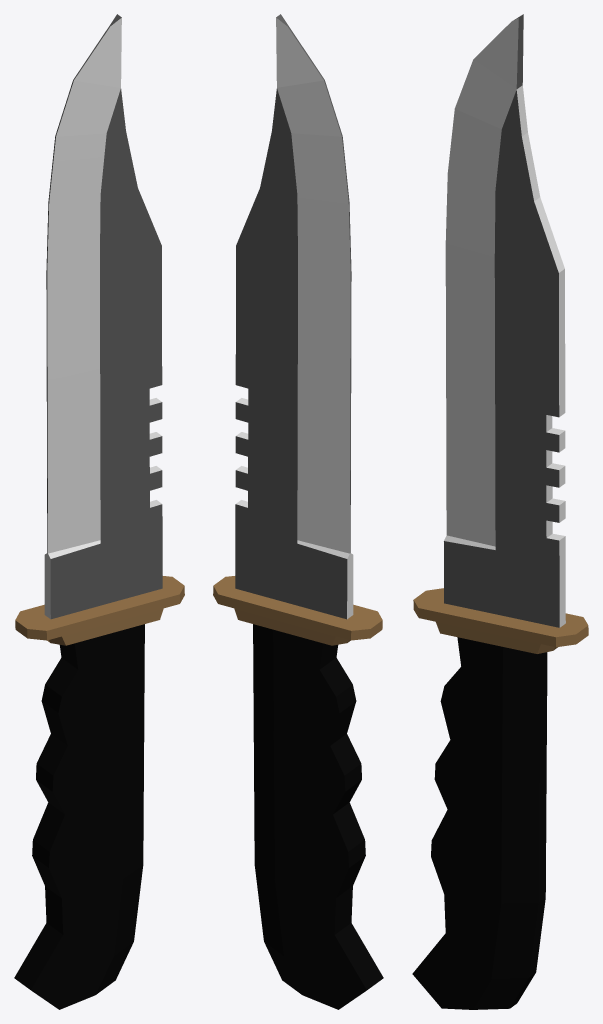
The model's file is item8.fbx.
3 views of the same model, side by side, from view 1: azimuth 30°, elevation 25°; view 2: azimuth 150°, elevation 25°; view 3: azimuth 330°, elevation 25° (orthographic). The views are drawn at different scales.
Visible parts, largest first — view 1: Knife.002, Knife, Knife.001, Knife.003; view 2: Knife.002, Knife, Knife.001, Knife.003; view 3: Knife.002, Knife, Knife.001, Knife.003.
Boxes of the visible parts, x1=… form: Knife.002: x1=44, y1=14, x2=162, y2=619; Knife: x1=14, y1=624, x2=144, y2=1009; Knife.001: x1=15, y1=576, x2=184, y2=640; Knife.003: x1=47, y1=608, x2=163, y2=645; Knife.002: x1=235, y1=14, x2=353, y2=619; Knife: x1=253, y1=624, x2=383, y2=1009; Knife.001: x1=213, y1=576, x2=382, y2=640; Knife.003: x1=234, y1=608, x2=350, y2=645; Knife.002: x1=444, y1=14, x2=565, y2=627; Knife: x1=412, y1=637, x2=547, y2=1009; Knife.001: x1=413, y1=588, x2=588, y2=647; Knife.003: x1=436, y1=622, x2=557, y2=653.
Size of the model in its own units: 26.54 by 156 by 7.78.
